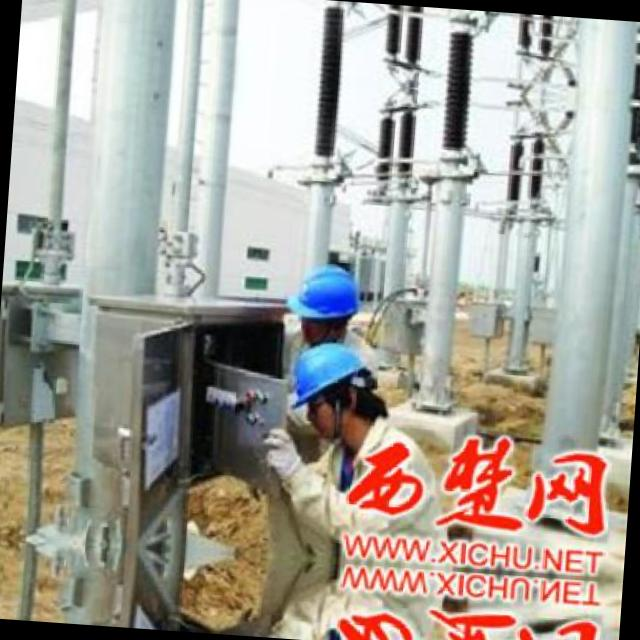helmet: (284, 336, 381, 438), (286, 258, 364, 346)
